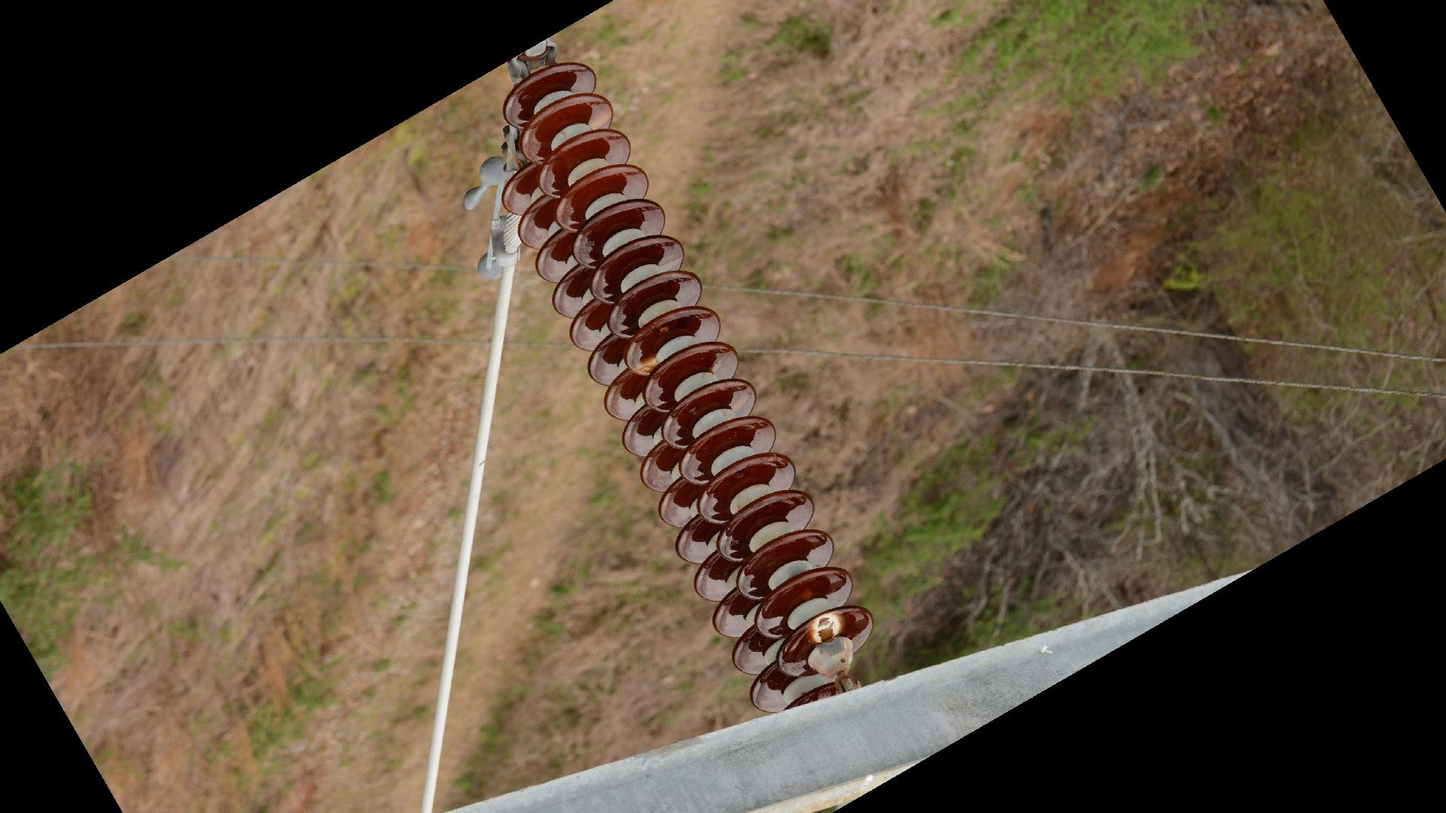insulator: (487, 56, 879, 715)
insulator_flashover: (813, 615, 837, 643), (630, 355, 658, 377)
